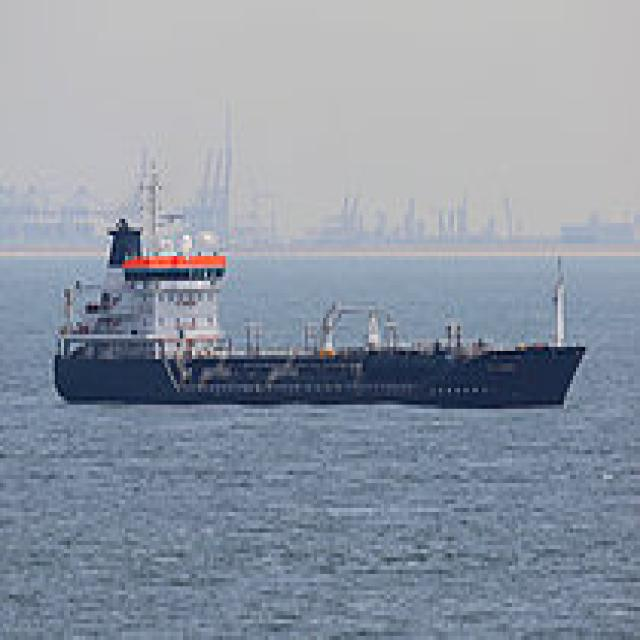Tanker: (49, 157, 582, 405)
